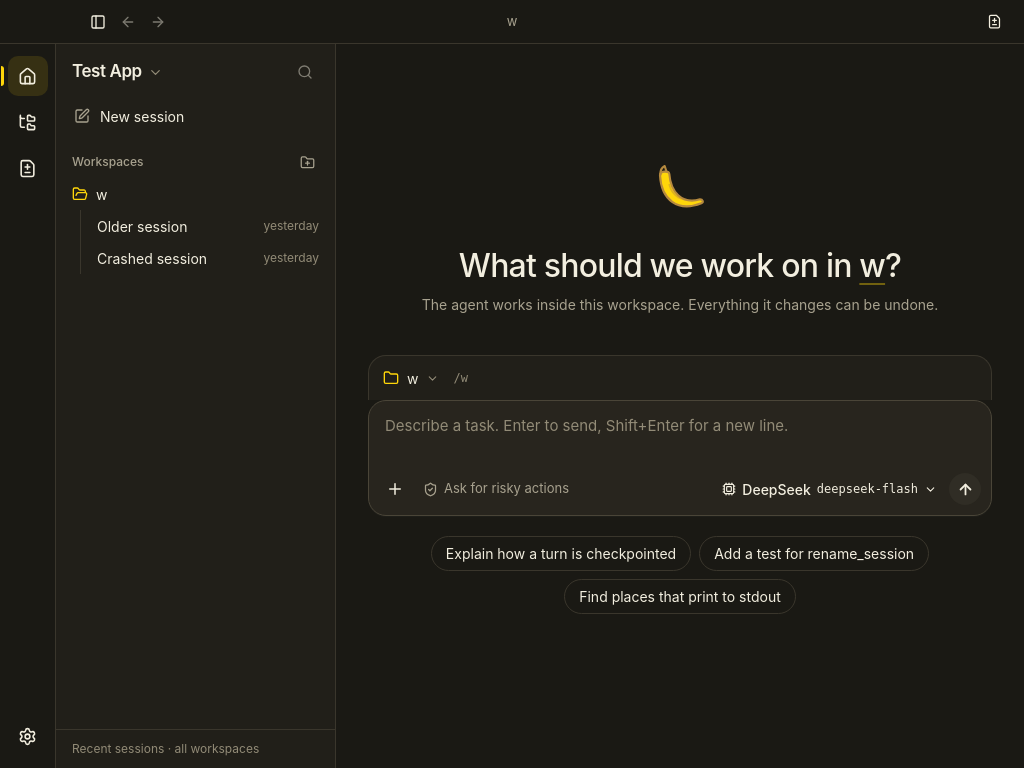
Test: a failed start in an open session › the prompt leaves the transcript, the composer is free and the text and error are back
Check: the text "Older session" is shown, box x1=97 y1=218 x2=187 y2=234
Click the button "Older session yesterday" at (208, 226), box x1=89 y1=210 x2=327 y2=242
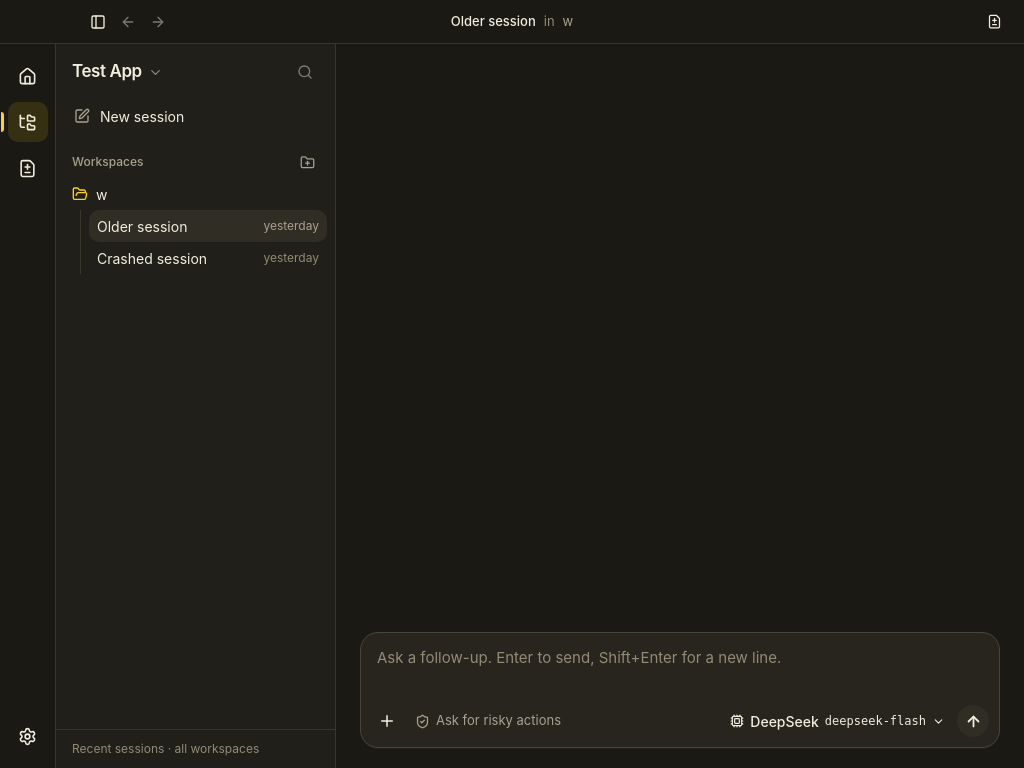
Type "doomed prompt" into the text box named "Task" at (680, 667), box x1=361 y1=633 x2=999 y2=701
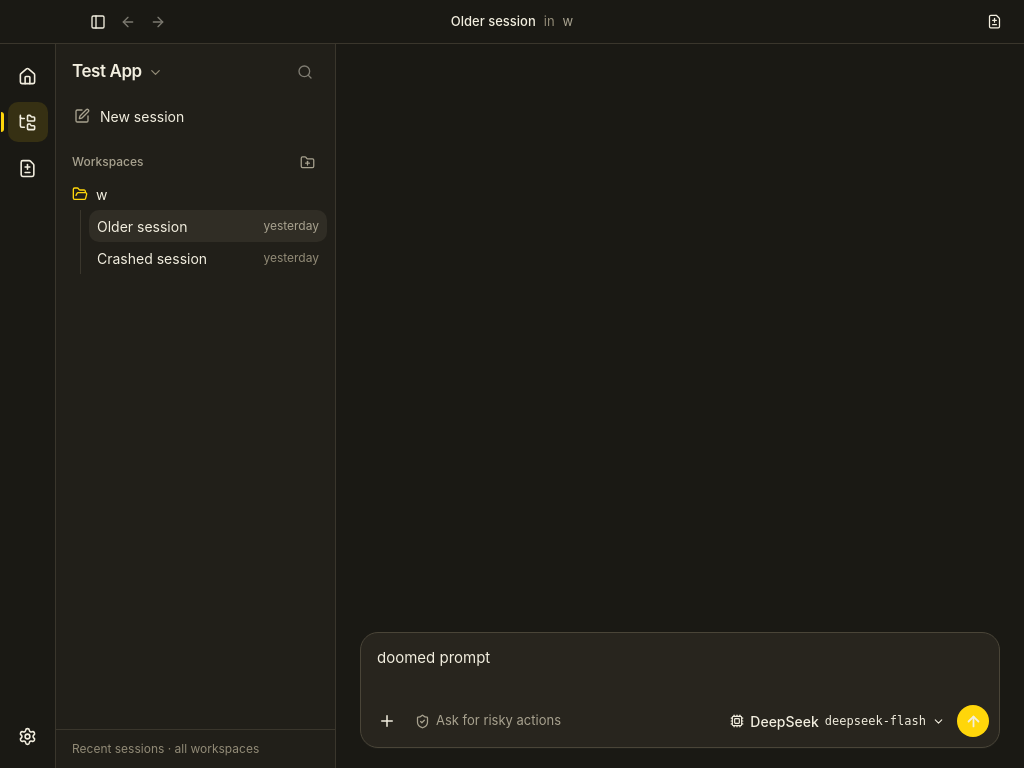
Click the button named "Send" at (973, 721), box x1=957 y1=705 x2=989 y2=737
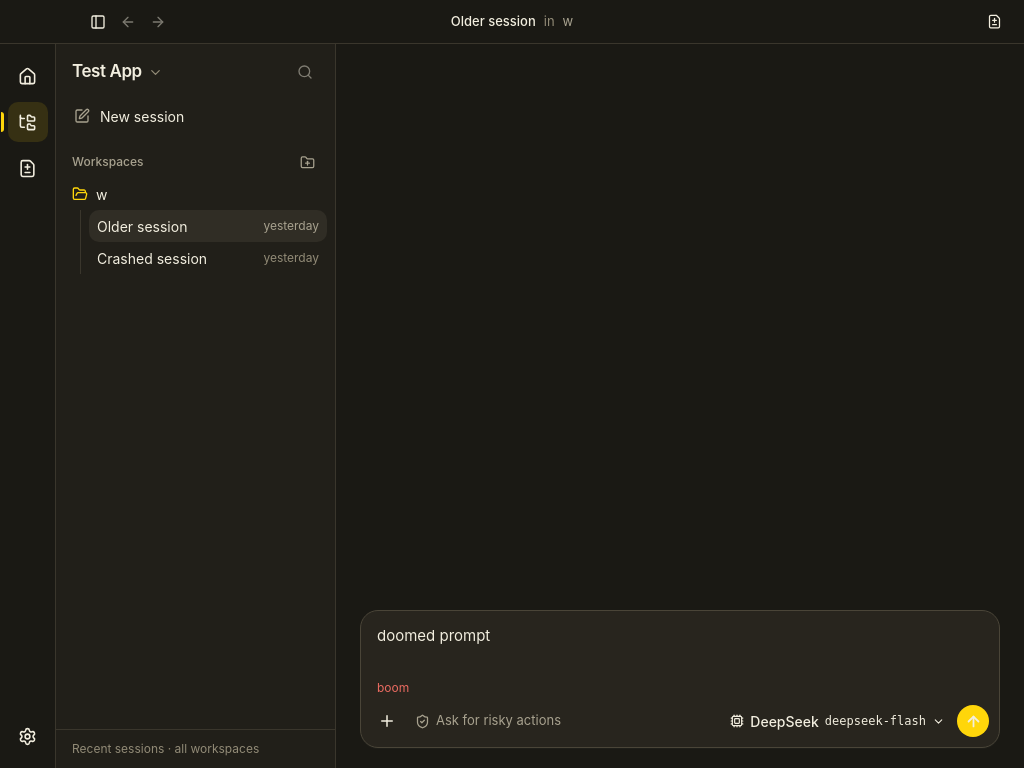
Check: the message reads "boom", box x1=377 y1=680 x2=409 y2=695
